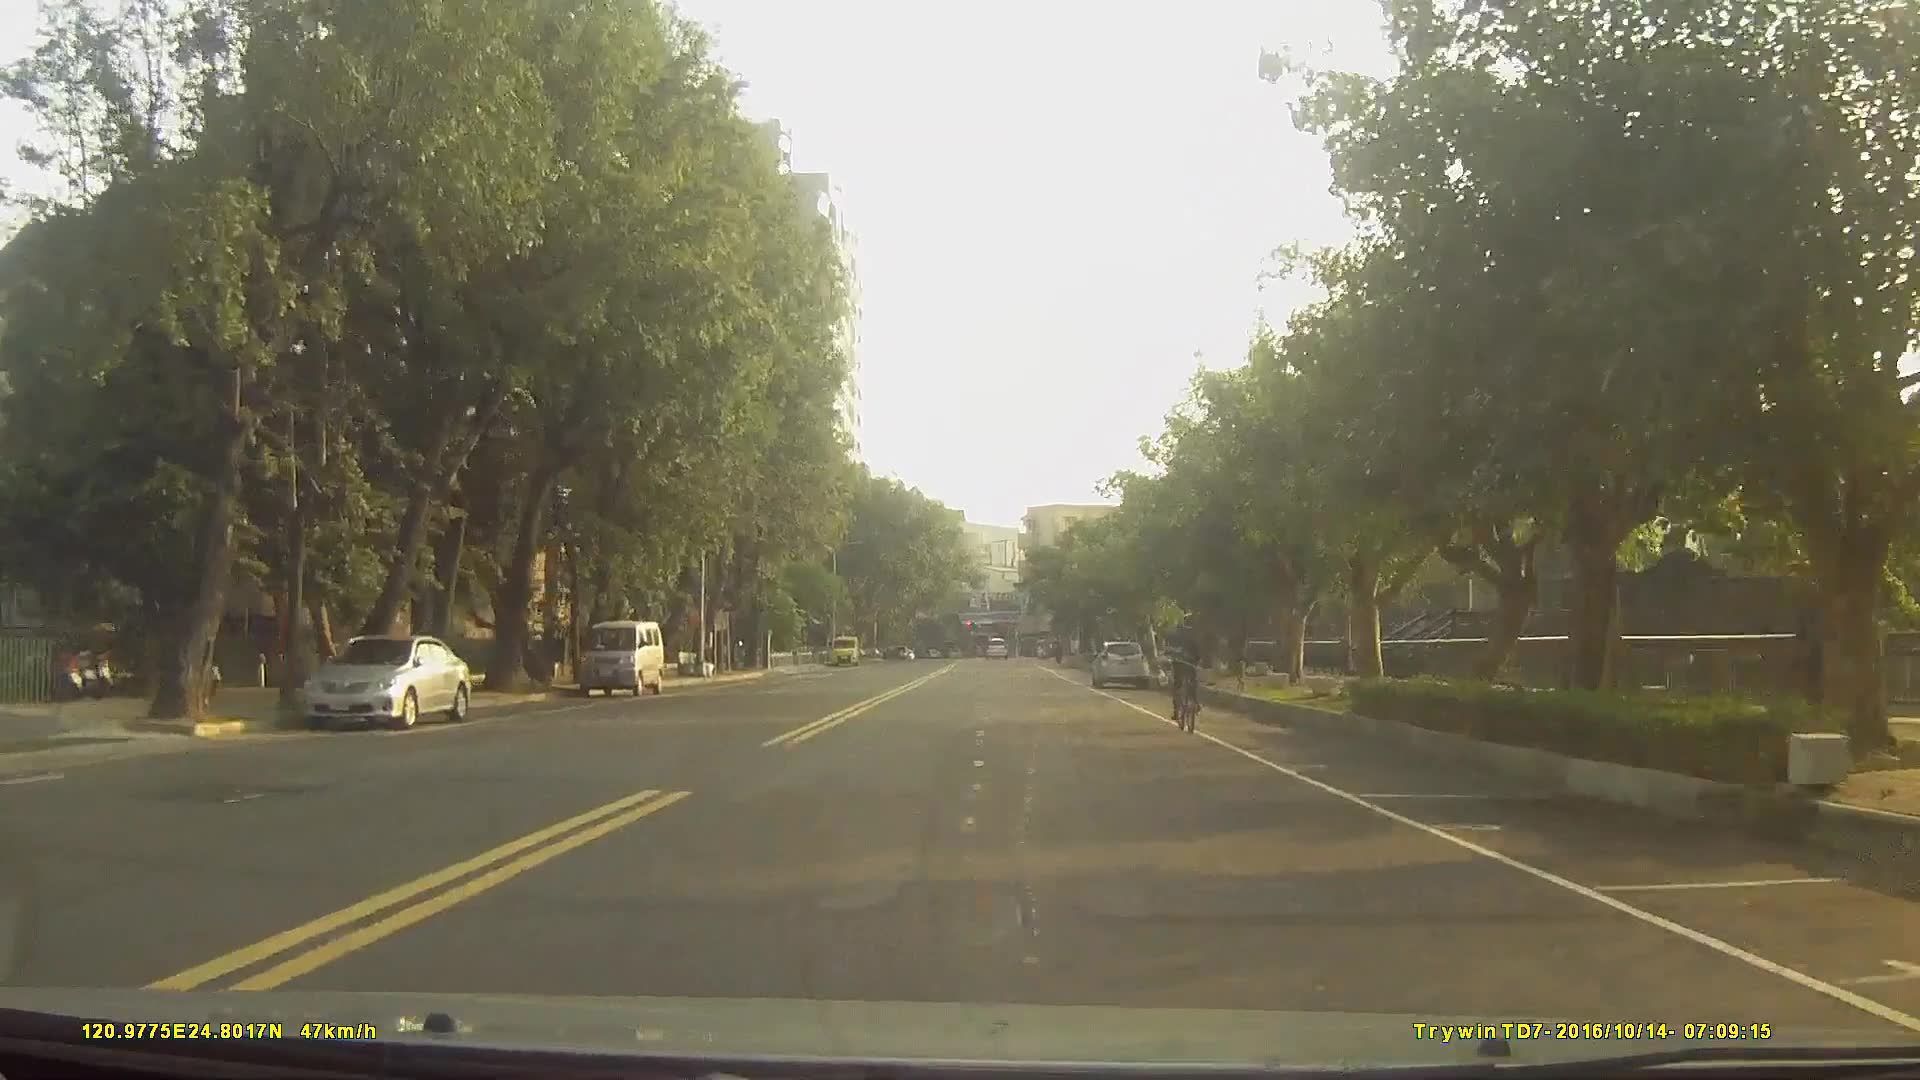rider: (1169, 607, 1207, 727)
vehicle: (298, 630, 474, 730), (575, 617, 665, 695), (1091, 637, 1152, 688), (981, 631, 1008, 659)
